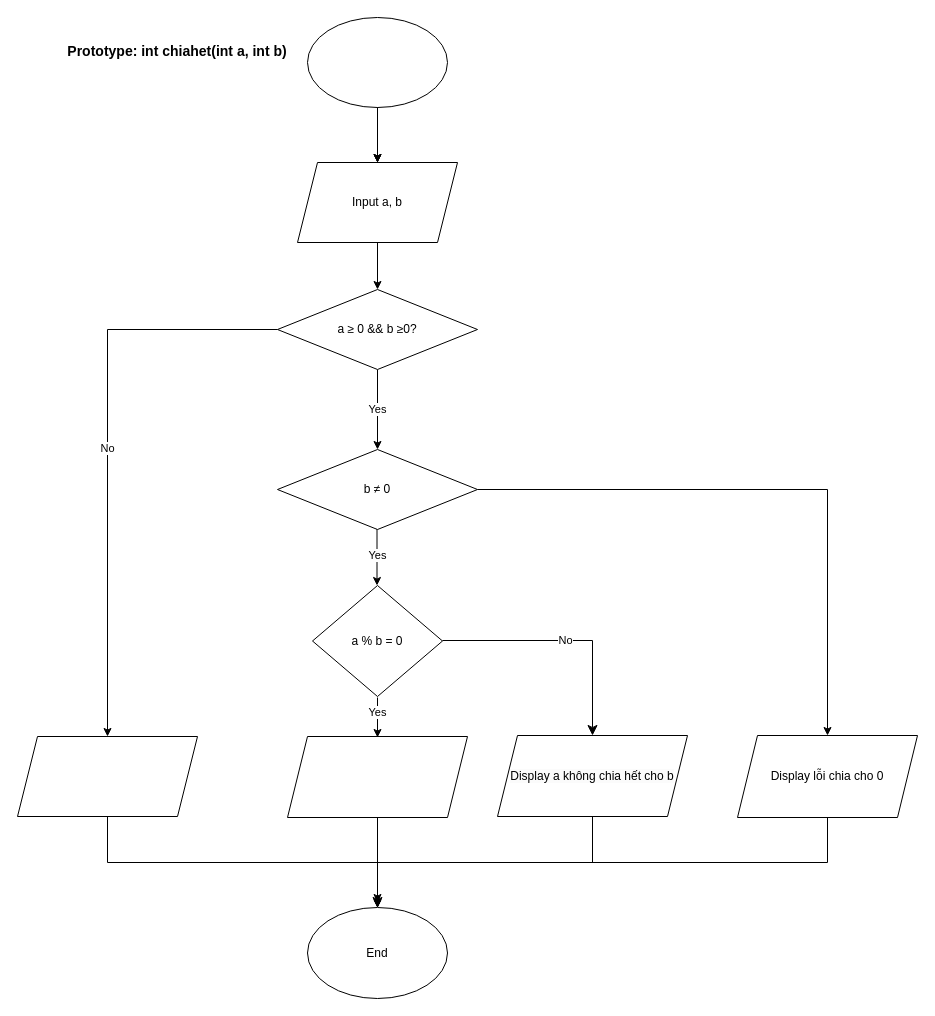
The diagram is 935 pixels wide and 1016 high, and some of its shapes have lost their labels. Here are the shapes that lost their labels. From the top down, the centre of each, then its label:
At (377,62): "Start".
At (107,776): "Display lỗi dữ liệu".
At (377,777): "Display a chia hết cho b".
